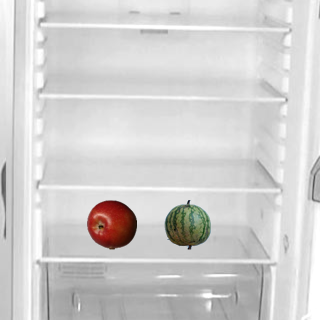Apple Braeburn: (86, 199, 136, 249)
Watermelon: (162, 199, 212, 249)
